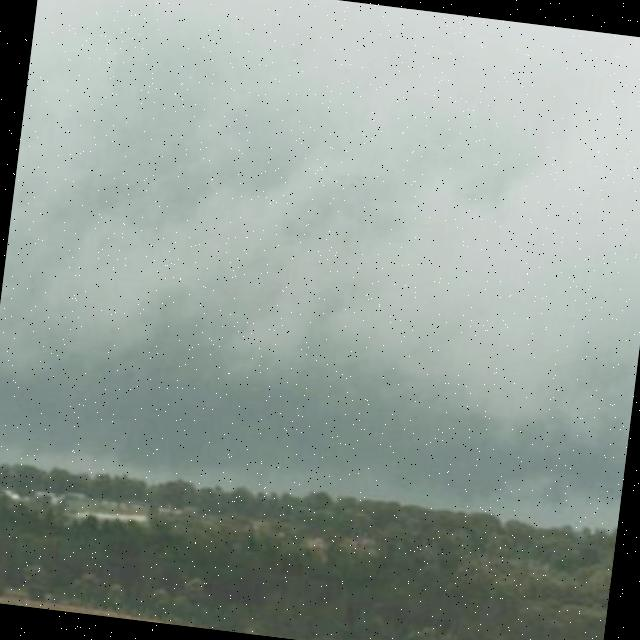St: (1, 36, 640, 468)
